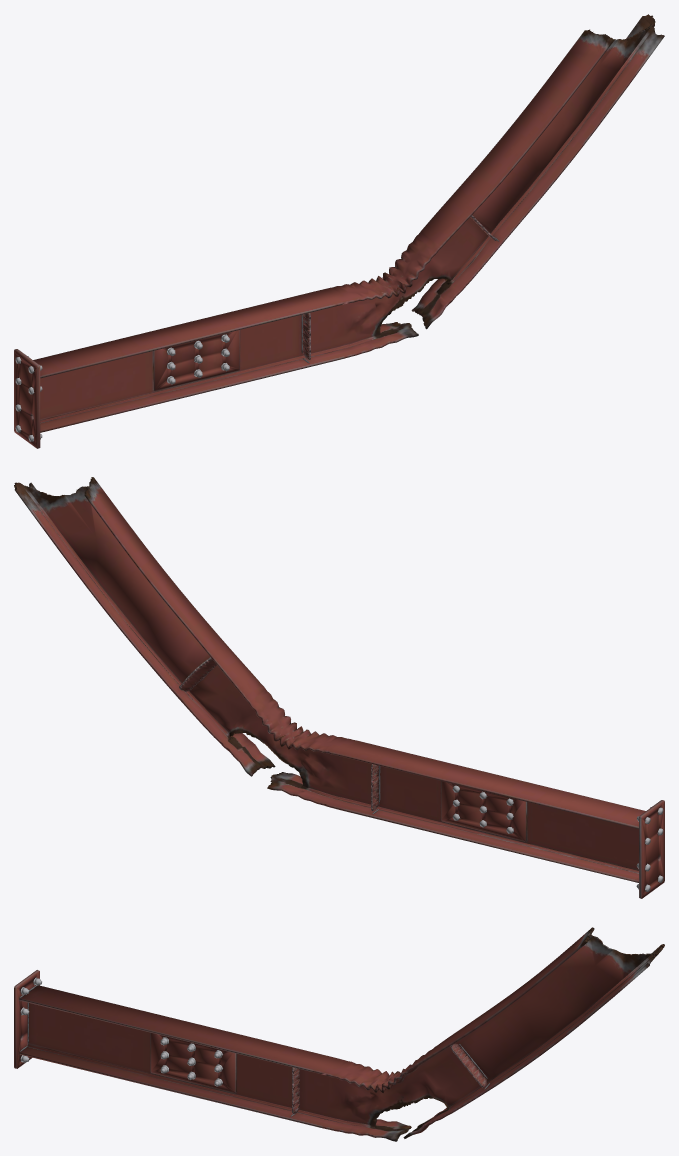
Rendered from industrial_steel_girder_premium_lod1.glb.
3 views of the same model, one above another, from view 1: azimuth 30°, elevation 25°; view 2: azimuth 150°, elevation 25°; view 3: azimuth 330°, elevation 25° (orthographic).
Parts seen in each view (by area): view 1: industrial_steel_girder_premium, bolts; view 2: industrial_steel_girder_premium, bolts; view 3: industrial_steel_girder_premium, bolts.
Part boxes in pixels (bbox=[...]): industrial_steel_girder_premium: bbox=[14, 14, 664, 448]; bolts: bbox=[15, 334, 229, 441]; industrial_steel_girder_premium: bbox=[14, 477, 664, 898]; bolts: bbox=[452, 785, 663, 891]; industrial_steel_girder_premium: bbox=[14, 927, 664, 1141]; bolts: bbox=[20, 977, 222, 1086].
Size of the model in its own units: 4 by 1.62 by 0.2755.
3 materials, 1 textured.
